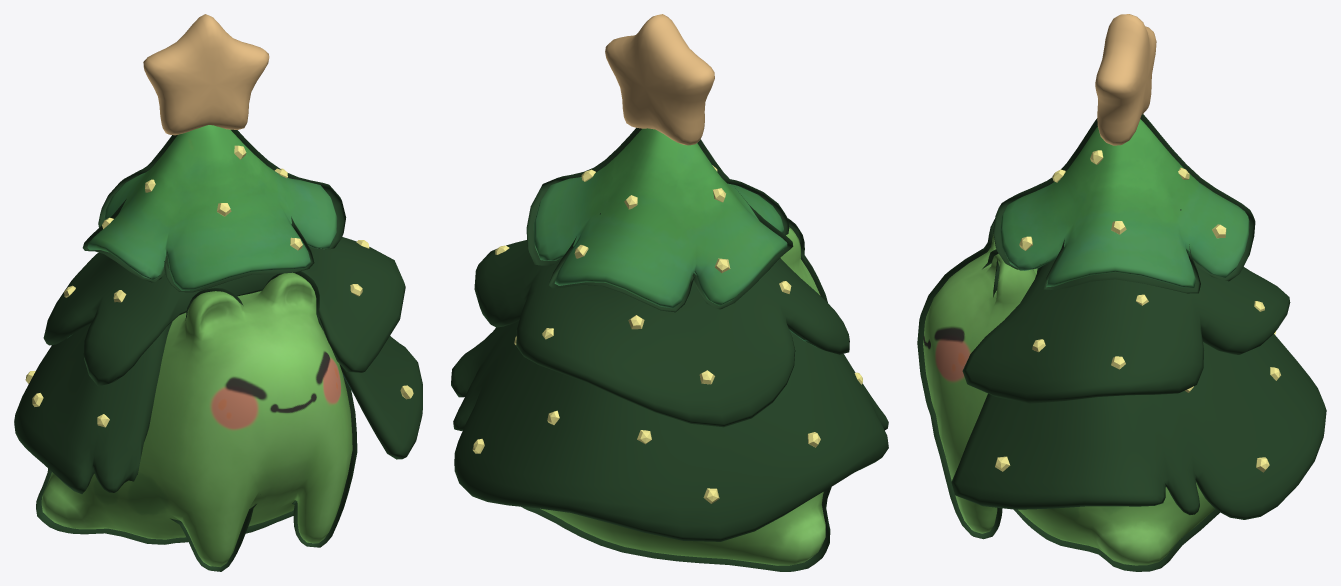
File: ranita.obj
The picture shows the model from 3 angles, left to right: view 1: azimuth 30°, elevation 25°; view 2: azimuth 150°, elevation 25°; view 3: azimuth 270°, elevation 25°; orthographic projection. The views are drawn at different scales.
Visible parts, largest first — view 1: ranita, arbol1, arbol, pCylinder2, ranita1, pSphere4 bolitas pSphere5 pSphere3 pSphere1 pSphere6 pSphere7 pS; view 2: arbol1, arbol, pCylinder2, ranita, ranita1, pSphere4 bolitas pSphere5 pSphere3 pSphere1 pSphere6 pSphere7 pS; view 3: arbol1, arbol, ranita, pCylinder2, ranita1, pSphere4 bolitas pSphere5 pSphere3 pSphere1 pSphere6 pSphere7 pS.
Part boxes in pixels (x1,y1,x2,y2): ranita: (41, 272, 352, 567); arbol1: (14, 129, 422, 493); arbol: (68, 125, 354, 395); pCylinder2: (143, 14, 269, 135); ranita1: (36, 271, 357, 571); pSphere4 bolitas pSphere5 pSphere3 pSphere1 pSphere6 pSphere7 pS: (25, 145, 413, 427); arbol1: (451, 127, 888, 541); arbol: (533, 128, 815, 346); pCylinder2: (605, 14, 714, 145); ranita: (540, 227, 825, 565); ranita1: (521, 218, 831, 571); pSphere4 bolitas pSphere5 pSphere3 pSphere1 pSphere6 pSphere7 pS: (472, 165, 862, 503); arbol1: (951, 114, 1326, 519); arbol: (1000, 119, 1249, 287); ranita: (923, 234, 1214, 565); pCylinder2: (1095, 14, 1156, 145); ranita1: (917, 219, 1219, 571); pSphere4 bolitas pSphere5 pSphere3 pSphere1 pSphere6 pSphere7 pS: (995, 150, 1280, 472).
Bounding box in the file's own units: 23.53 × 29.56 × 21.67.
